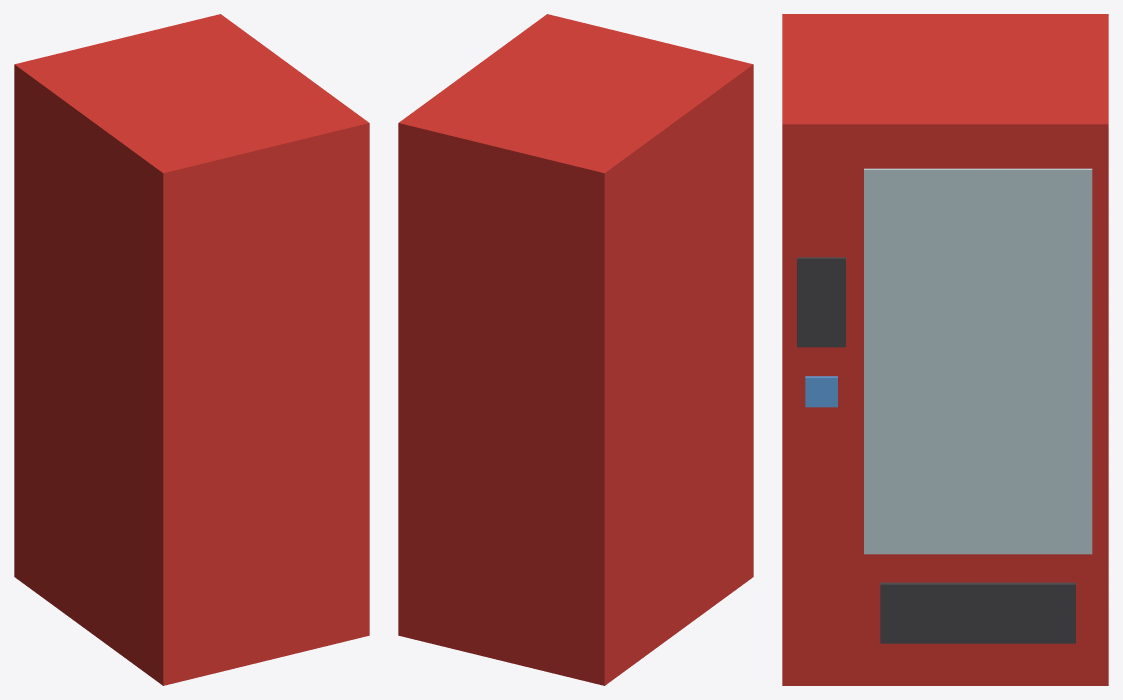
File: SM_Prop_VendingMachine.glb
The picture shows the model from 3 angles, left to right: view 1: azimuth 30°, elevation 25°; view 2: azimuth 150°, elevation 25°; view 3: azimuth 270°, elevation 25°; orthographic projection. The views are drawn at different scales.
Parts seen in each view (by area): view 1: SM_Prop_VendingMachine; view 2: SM_Prop_VendingMachine; view 3: SM_Prop_VendingMachine.
Boxes of the visible parts, x1,y1,x2,y2 form: SM_Prop_VendingMachine: (14, 14, 369, 685); SM_Prop_VendingMachine: (398, 14, 753, 685); SM_Prop_VendingMachine: (782, 14, 1108, 685).
Size of the model in its own units: 0.815 by 1.9 by 1.
